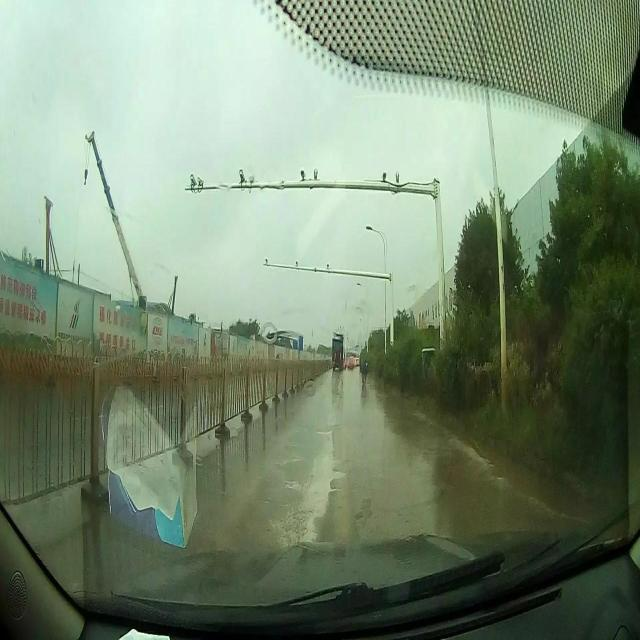car: (332, 331, 346, 374), (348, 350, 356, 372)
